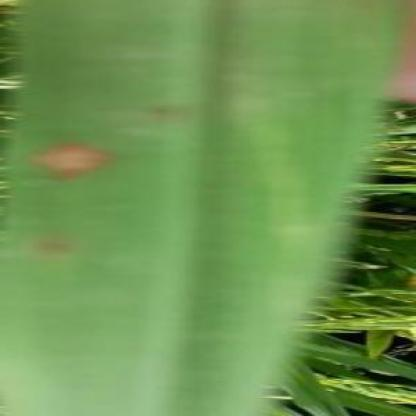Rice blast: (29, 134, 116, 187)
